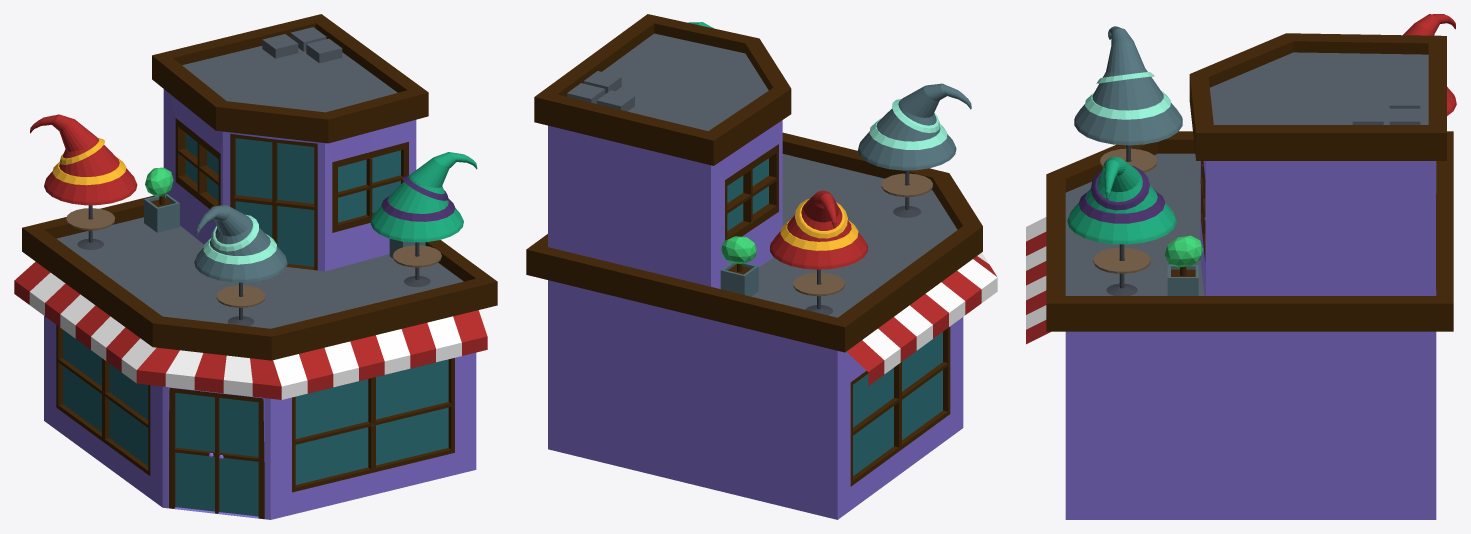
File: CornerBuildings.fbx_Cafe_-_Corner.fbx
3 views of the same model, side by side, from view 1: azimuth 30°, elevation 25°; view 2: azimuth 150°, elevation 25°; view 3: azimuth 270°, elevation 25° (orthographic). The views are drawn at different scales.
Visible parts, largest first — view 1: Cube; view 2: Cube; view 3: Cube.
Boxes of the visible parts, left/top/right/bottom form: Cube: left=14, top=14, right=497, bottom=519; Cube: left=526, top=14, right=997, bottom=519; Cube: left=1026, top=14, right=1456, bottom=519.
Bounding box in the file's own units: 1395 × 1410 × 1400.
